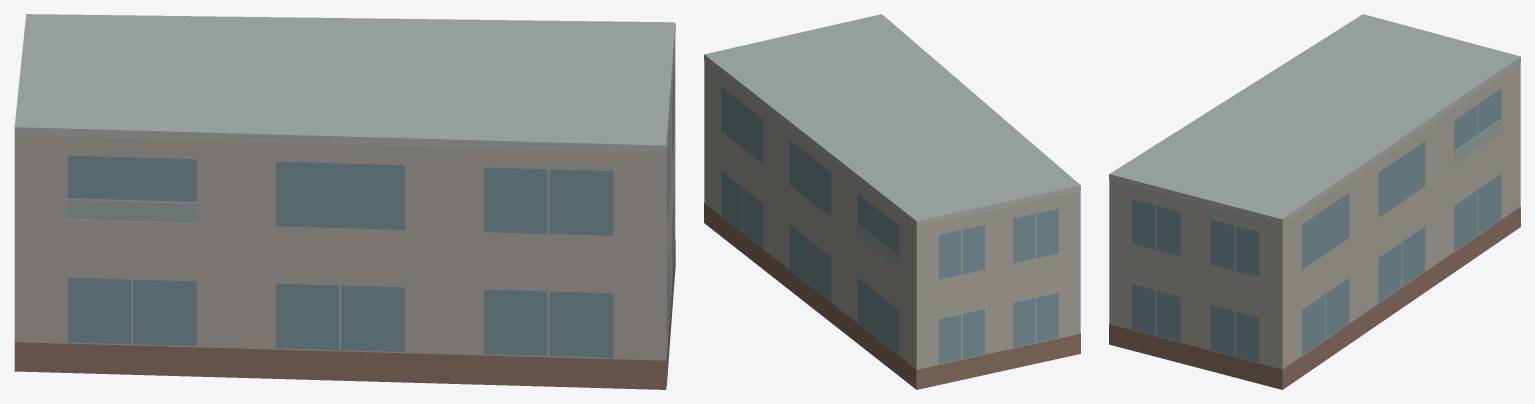
The model's file is survey-upis-32894878.glb.
3 renders of one model, left to right at view 1: azimuth 30°, elevation 25°; view 2: azimuth 150°, elevation 25°; view 3: azimuth 270°, elevation 25°, orthographic. The views are drawn at different scales.
Visible parts, largest first — view 1: survey-upis-32894878.tmp; view 2: survey-upis-32894878.tmp; view 3: survey-upis-32894878.tmp.
Part boxes in pixels (x1,y1,x2,y2): survey-upis-32894878.tmp: (14, 14, 675, 389); survey-upis-32894878.tmp: (704, 14, 1080, 389); survey-upis-32894878.tmp: (1109, 14, 1520, 389).
Size of the model in its own units: 18.1 by 7 by 15.33.
